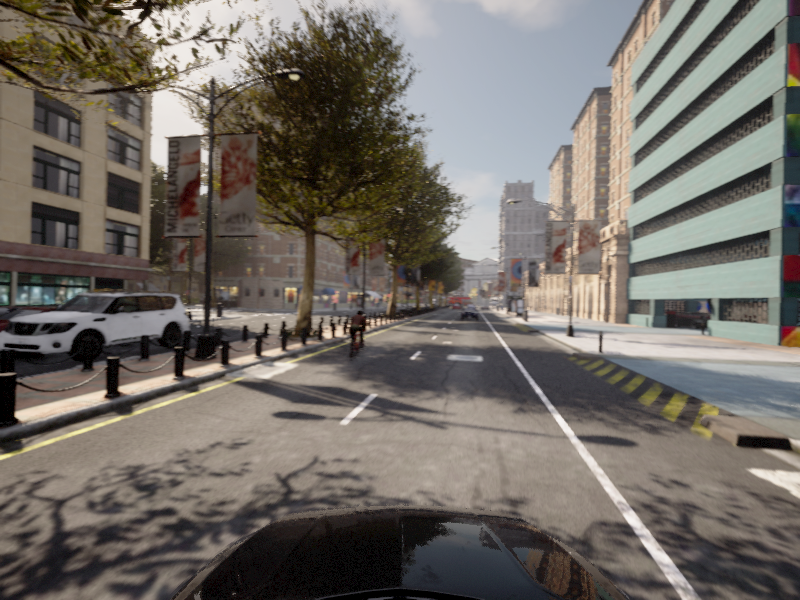vehicle: (1, 288, 197, 368), (1, 305, 119, 357), (340, 309, 372, 363), (460, 307, 479, 320)
